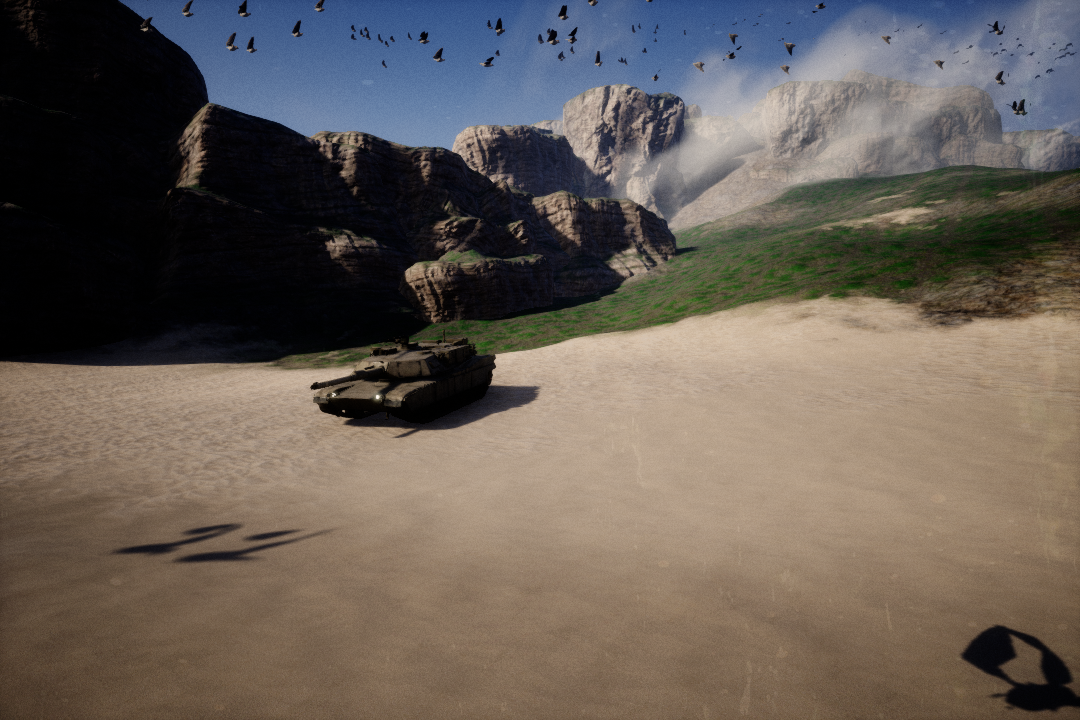tank: (308, 340, 501, 424)
